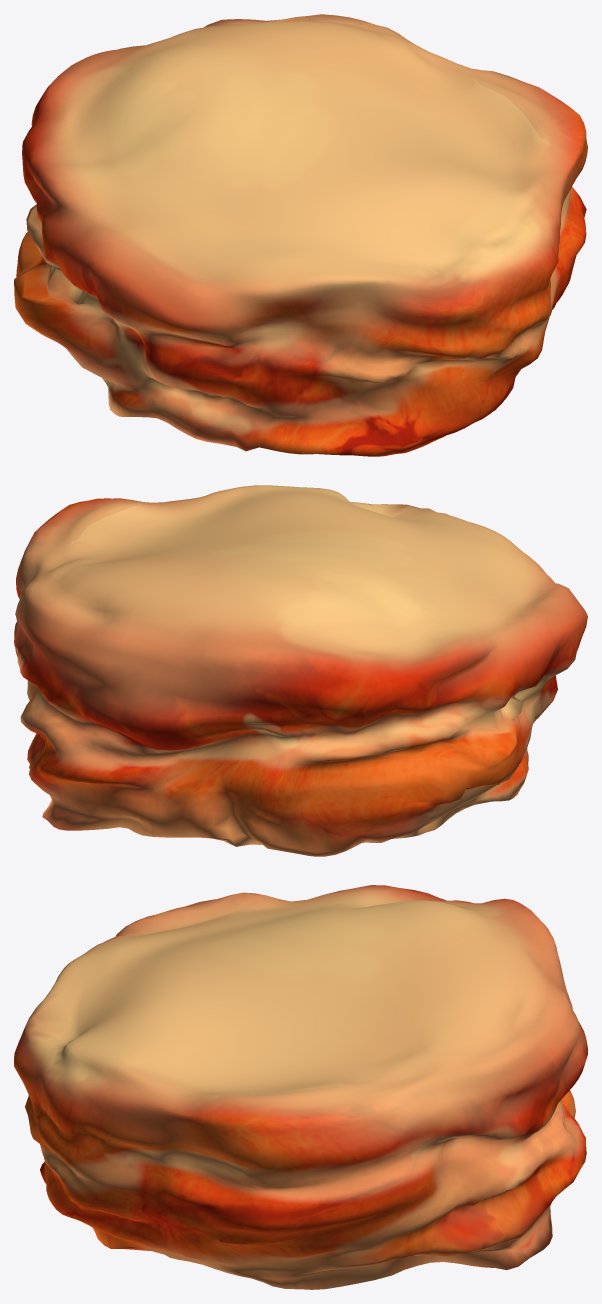
File: LevelsBase 7.fbx
3 views of the same model, one above another, from view 1: azimuth 30°, elevation 25°; view 2: azimuth 150°, elevation 25°; view 3: azimuth 270°, elevation 25° (orthographic). The views are drawn at different scales.
Parts seen in each view (by area): view 1: LevelsBase 2.001; view 2: LevelsBase 2.001; view 3: LevelsBase 2.001.
Boxes of the visible parts, <box> form: LevelsBase 2.001: <box>14,14,587,456</box>; LevelsBase 2.001: <box>14,485,587,856</box>; LevelsBase 2.001: <box>14,885,587,1289</box>.
Size of the model in its own units: 302 by 311 by 154.
1 material, 1 textured.
